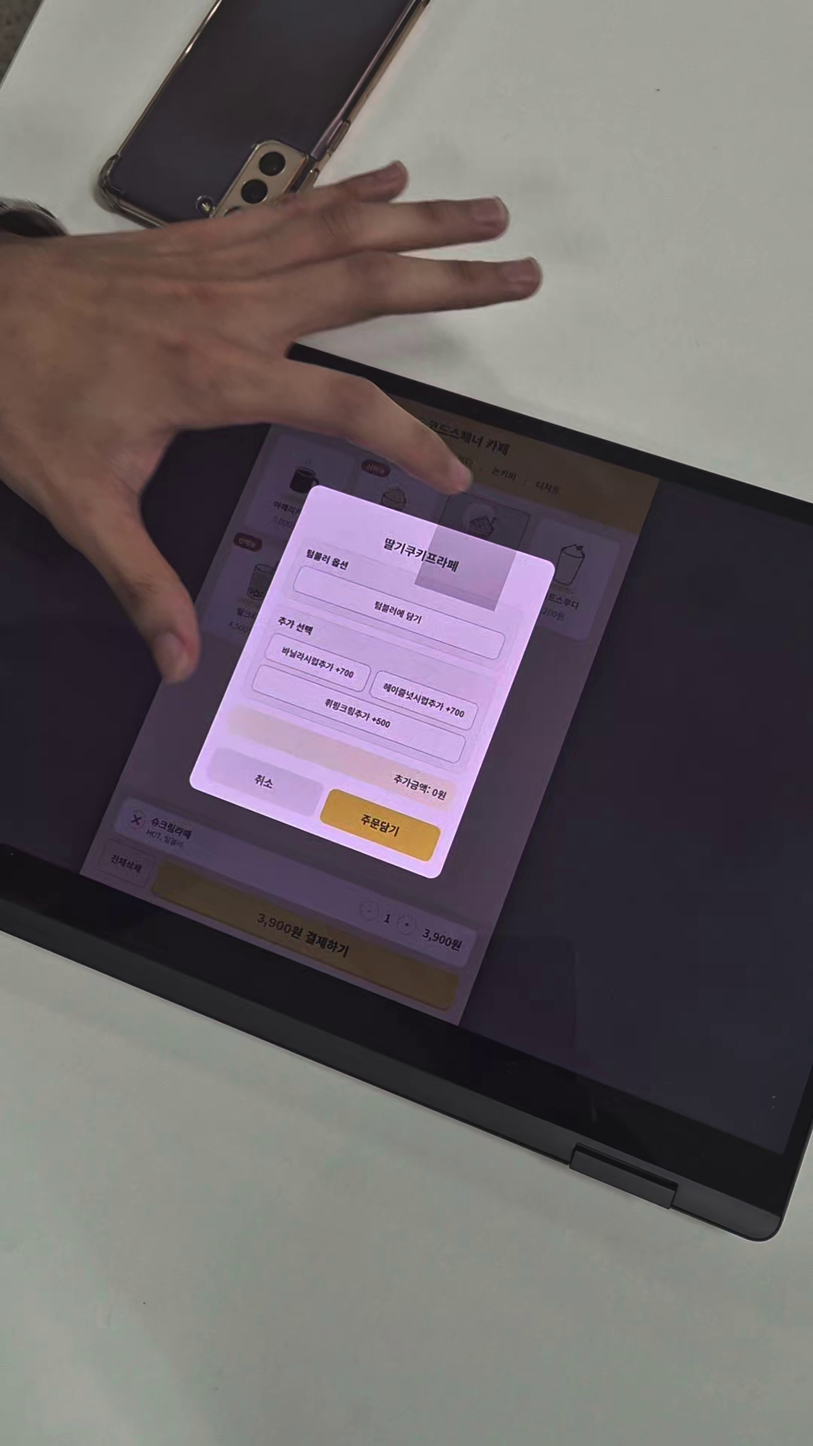action_button: (316, 785, 441, 866), (204, 744, 325, 821)
menu_back: (186, 477, 557, 889)
menu_name: (370, 530, 467, 584)
option_button: (288, 560, 510, 662), (248, 663, 466, 765), (369, 668, 477, 733), (266, 634, 373, 692)
